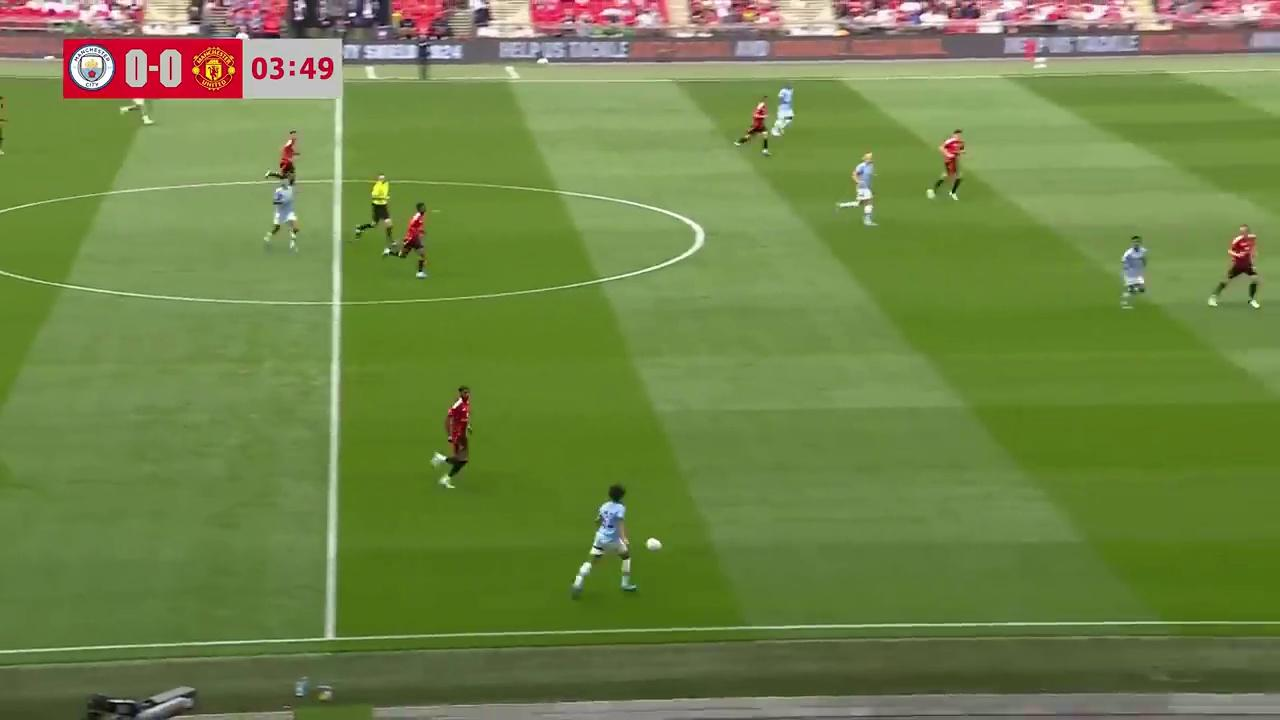ball: (644, 534, 662, 552)
player: (572, 484, 635, 591), (1207, 223, 1262, 309), (431, 386, 472, 489), (837, 151, 877, 226), (263, 176, 301, 254), (928, 128, 966, 201), (394, 202, 428, 279), (733, 97, 772, 154), (1119, 235, 1148, 309), (268, 129, 300, 186), (771, 83, 794, 136), (0, 93, 8, 157)
referee: (356, 173, 394, 248)
